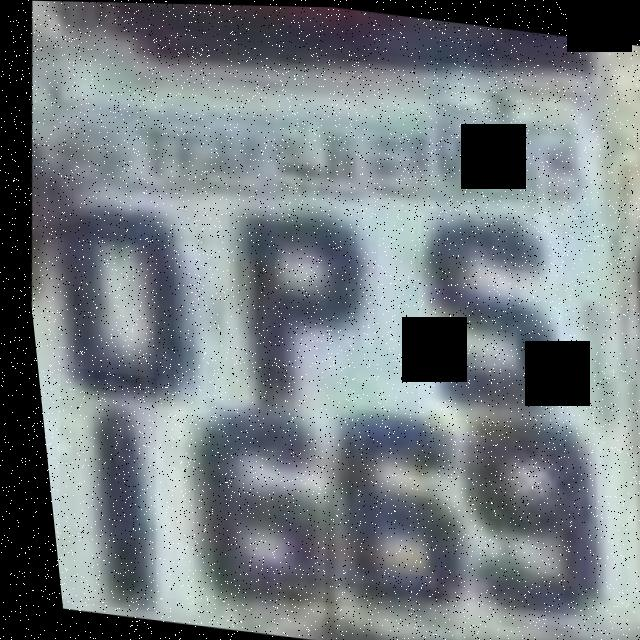1: (30, 365, 167, 612)
6: (128, 365, 335, 616), (266, 391, 474, 630)
9: (411, 400, 599, 637)
O: (22, 160, 218, 391)
P: (202, 183, 391, 416)
S: (392, 209, 574, 431)
